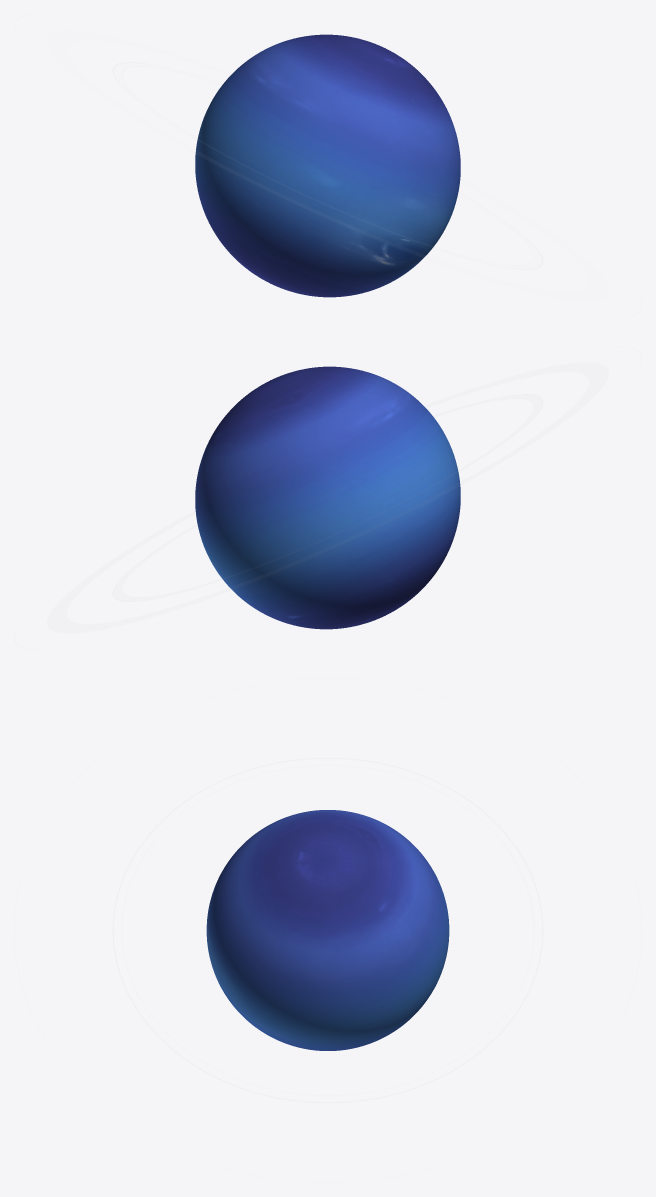
The model's file is Neptun.glb.
The picture shows the model from 3 angles, top to bottom: view 1: azimuth 30°, elevation 25°; view 2: azimuth 150°, elevation 25°; view 3: azimuth 270°, elevation 25°; orthographic projection. The views are drawn at different scales.
Parts seen in each view (by area): view 1: NEPTUNE; view 2: NEPTUNE; view 3: NEPTUNE.
Part boxes in pixels (x1=…): NEPTUNE: x1=195, y1=34, x2=460, y2=297; NEPTUNE: x1=195, y1=366, x2=460, y2=629; NEPTUNE: x1=206, y1=810, x2=449, y2=1050.
Bounding box in the file's own units: 5.63 × 3.04 × 6.4.
Materials: 2 (2 with a texture image).
